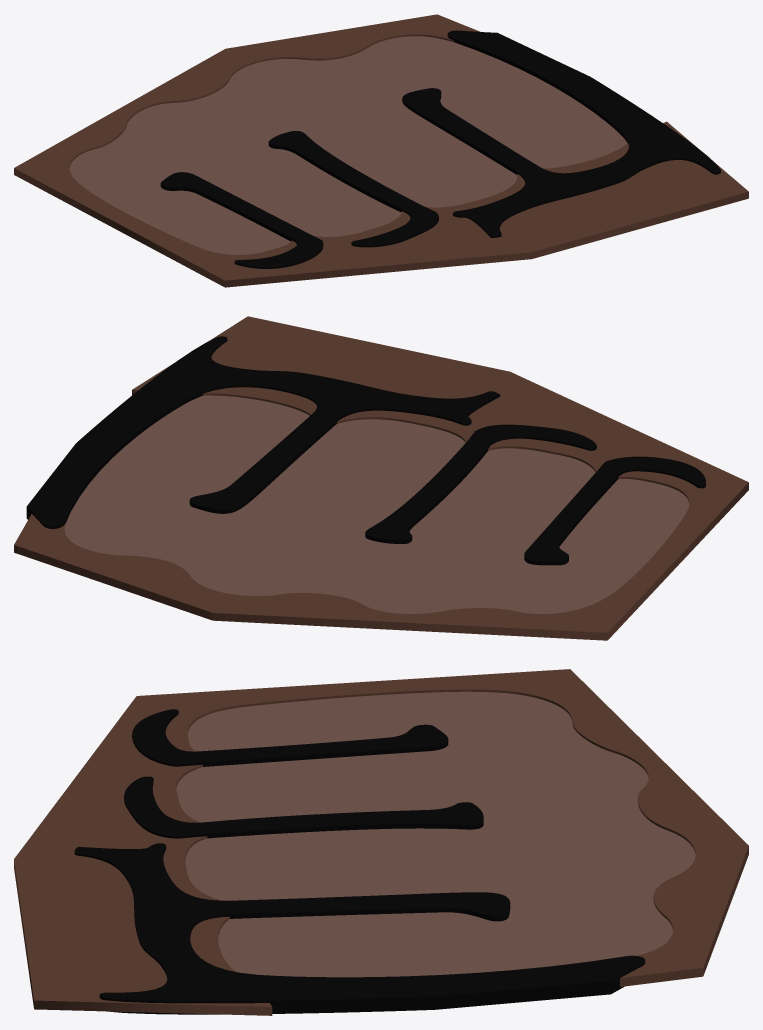
The model's file is emoji_u1f44a_1f3ff.glb.
3 views of the same model, one above another, from view 1: azimuth 30°, elevation 25°; view 2: azimuth 150°, elevation 25°; view 3: azimuth 270°, elevation 25° (orthographic). The views are drawn at different scales.
Visible parts, largest first — view 1: emoji_u1f44a_1f3ff; view 2: emoji_u1f44a_1f3ff; view 3: emoji_u1f44a_1f3ff.
Boxes of the visible parts, x1,y1,x2,y2 form: emoji_u1f44a_1f3ff: (14,14,748,287); emoji_u1f44a_1f3ff: (14,316,748,640); emoji_u1f44a_1f3ff: (14,669,748,1015).
Bounding box in the file's own units: 0.0325 × 0.0006 × 0.0299.
